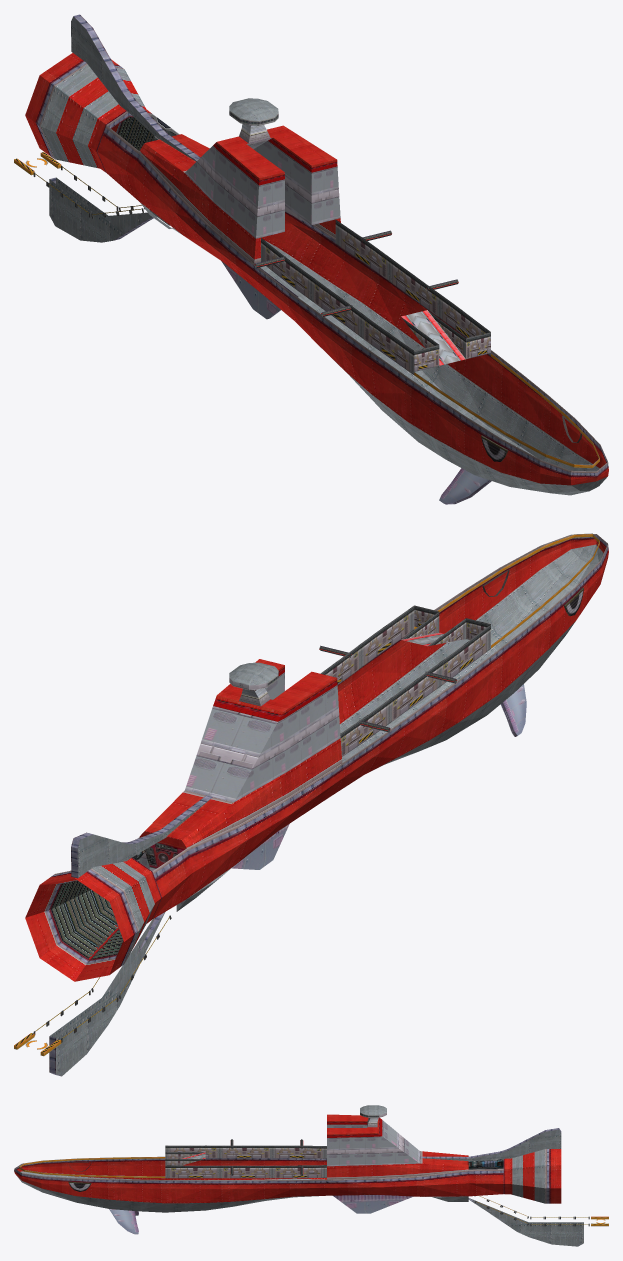
3 renders of one model, top to bottom at view 1: azimuth 30°, elevation 25°; view 2: azimuth 150°, elevation 25°; view 3: azimuth 270°, elevation 25°, orthographic. The views are drawn at different scales.
Visible parts, largest first — view 1: s13_on_01_4, s13_on_01_10, s13_on_01_7, s13_on_01_8, s13_on_01_12, s13_on_01_13, s13_on_01_2, s13_on_01_3, s13_on_01_9, s13_on_01_1, s13_on_01_5; view 2: s13_on_01_4, s13_on_01_10, s13_on_01_8, s13_on_01_7, s13_on_01_5, s13_on_01_12, s13_on_01_13, s13_on_01_2, s13_on_01_1, s13_on_01_9; view 3: s13_on_01_4, s13_on_01_10, s13_on_01_7, s13_on_01_8, s13_on_01_12, s13_on_01_13, s13_on_01_2, s13_on_01_9, s13_on_01_6, s13_on_01_1, s13_on_01_0, s13_on_01_14.
Part boxes in pixels (x1,y1,x2,y2): s13_on_01_4: (25,14,608,485); s13_on_01_10: (49,16,607,495); s13_on_01_7: (261,220,490,374); s13_on_01_8: (141,137,340,238); s13_on_01_12: (40,64,145,168); s13_on_01_13: (221,261,491,504); s13_on_01_2: (14,123,599,468); s13_on_01_3: (401,310,465,365); s13_on_01_9: (213,138,337,185); s13_on_01_1: (33,165,458,316); s13_on_01_5: (118,116,154,150); s13_on_01_4: (25,534,608,1076); s13_on_01_10: (49,544,603,1076); s13_on_01_8: (139,672,340,911); s13_on_01_7: (320,605,490,756); s13_on_01_5: (51,880,123,959); s13_on_01_12: (62,861,155,961); s13_on_01_13: (232,684,526,869); s13_on_01_2: (14,533,599,1056); s13_on_01_1: (33,645,457,1042); s13_on_01_9: (213,665,337,721); s13_on_01_4: (14,1114,561,1203); s13_on_01_10: (16,1105,583,1246); s13_on_01_7: (165,1145,326,1178); s13_on_01_8: (327,1120,465,1197); s13_on_01_12: (510,1149,545,1203); s13_on_01_13: (109,1195,412,1234); s13_on_01_2: (19,1112,608,1226); s13_on_01_9: (327,1117,382,1137); s13_on_01_6: (468,1159,503,1169); s13_on_01_1: (230,1139,589,1226); s13_on_01_0: (476,1195,608,1224); s13_on_01_14: (68,1162,91,1191).
Size of the model in its own units: 405 by 754 by 2944.
Materials: 15 (15 with a texture image).
